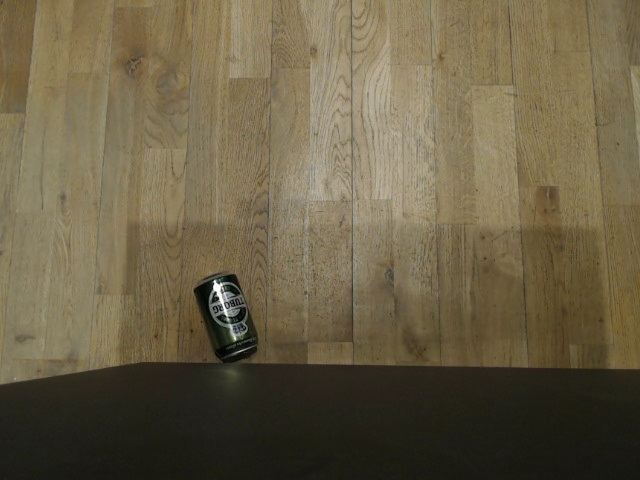beer: (180, 261, 269, 369)
